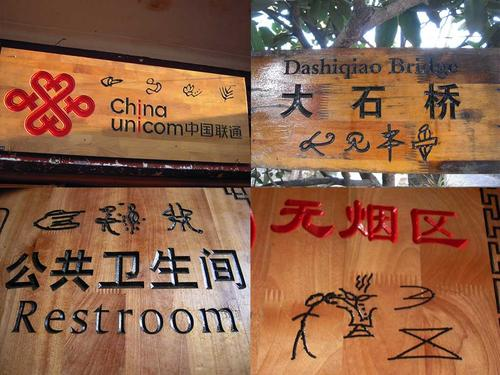chinese: (3, 242, 248, 291), (271, 195, 472, 250), (276, 79, 466, 124)
naxi: (277, 275, 468, 363), (290, 121, 441, 165), (33, 203, 205, 236), (101, 73, 237, 103)
